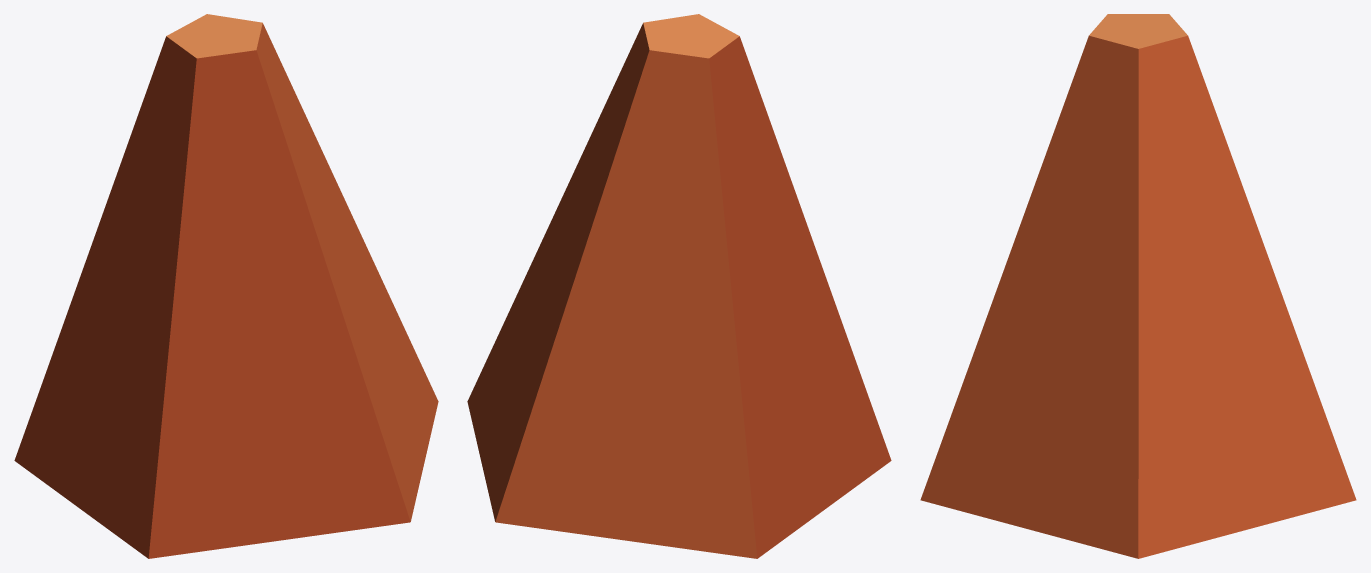
The model's file is SM_ROCK_S_12.fbx.
3 views of the same model, side by side, from view 1: azimuth 30°, elevation 25°; view 2: azimuth 150°, elevation 25°; view 3: azimuth 270°, elevation 25° (orthographic).
Visible parts, largest first — view 1: ROCK_S_12; view 2: ROCK_S_12; view 3: ROCK_S_12.
Part boxes in pixels (box(x1,y1,x2,y2)): ROCK_S_12: box(14, 14, 438, 558); ROCK_S_12: box(467, 14, 891, 558); ROCK_S_12: box(920, 14, 1356, 558).
Size of the model in its own units: 0.6277 by 0.6611 by 0.7442.
